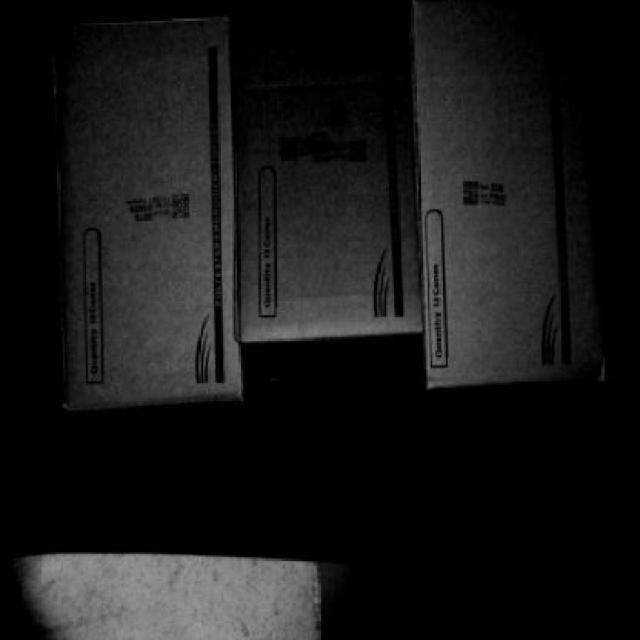cardboxes: (54, 21, 238, 402), (424, 0, 604, 388), (239, 5, 424, 340)
